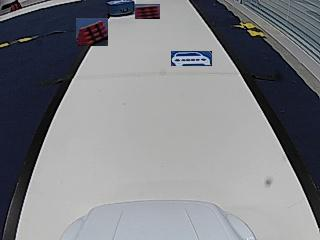prop: (107, 1, 134, 17)
